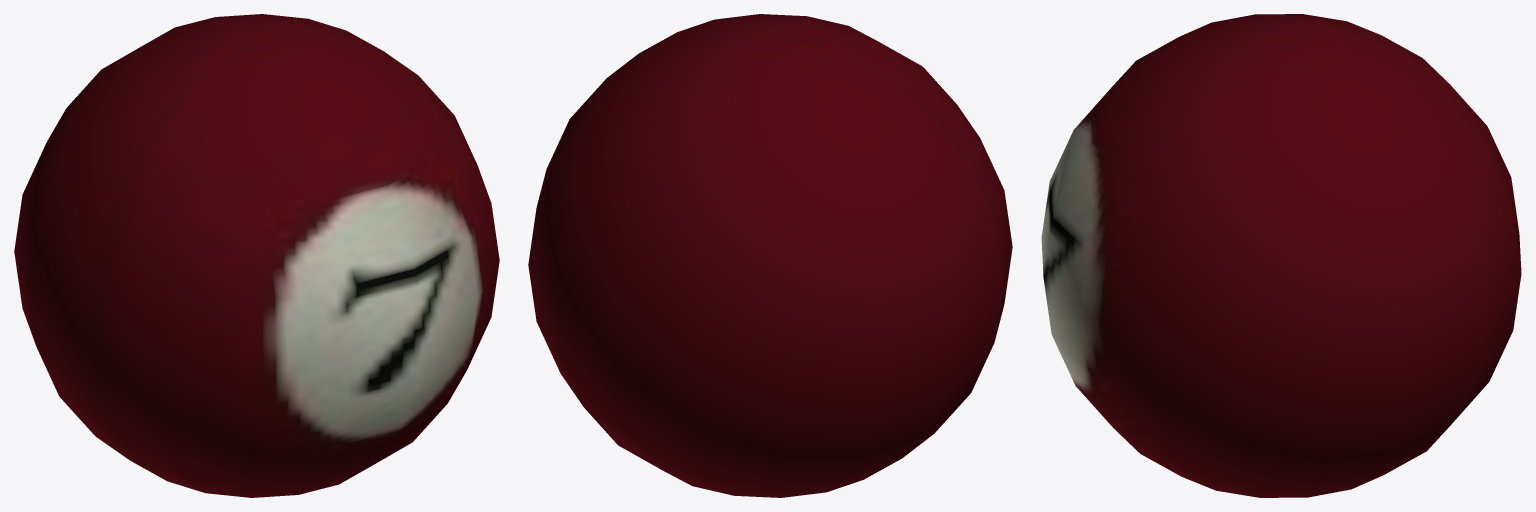
3 views of the same model, side by side, from view 1: azimuth 30°, elevation 25°; view 2: azimuth 150°, elevation 25°; view 3: azimuth 270°, elevation 25° (orthographic).
Parts seen in each view (by area): view 1: bi_a_07; view 2: bi_a_07; view 3: bi_a_07.
Boxes of the visible parts, x1,y1,x2,y2 form: bi_a_07: (14, 14, 499, 497); bi_a_07: (528, 14, 1012, 497); bi_a_07: (1041, 14, 1521, 497).
Size of the model in its own units: 12.94 by 13.13 by 12.94.
